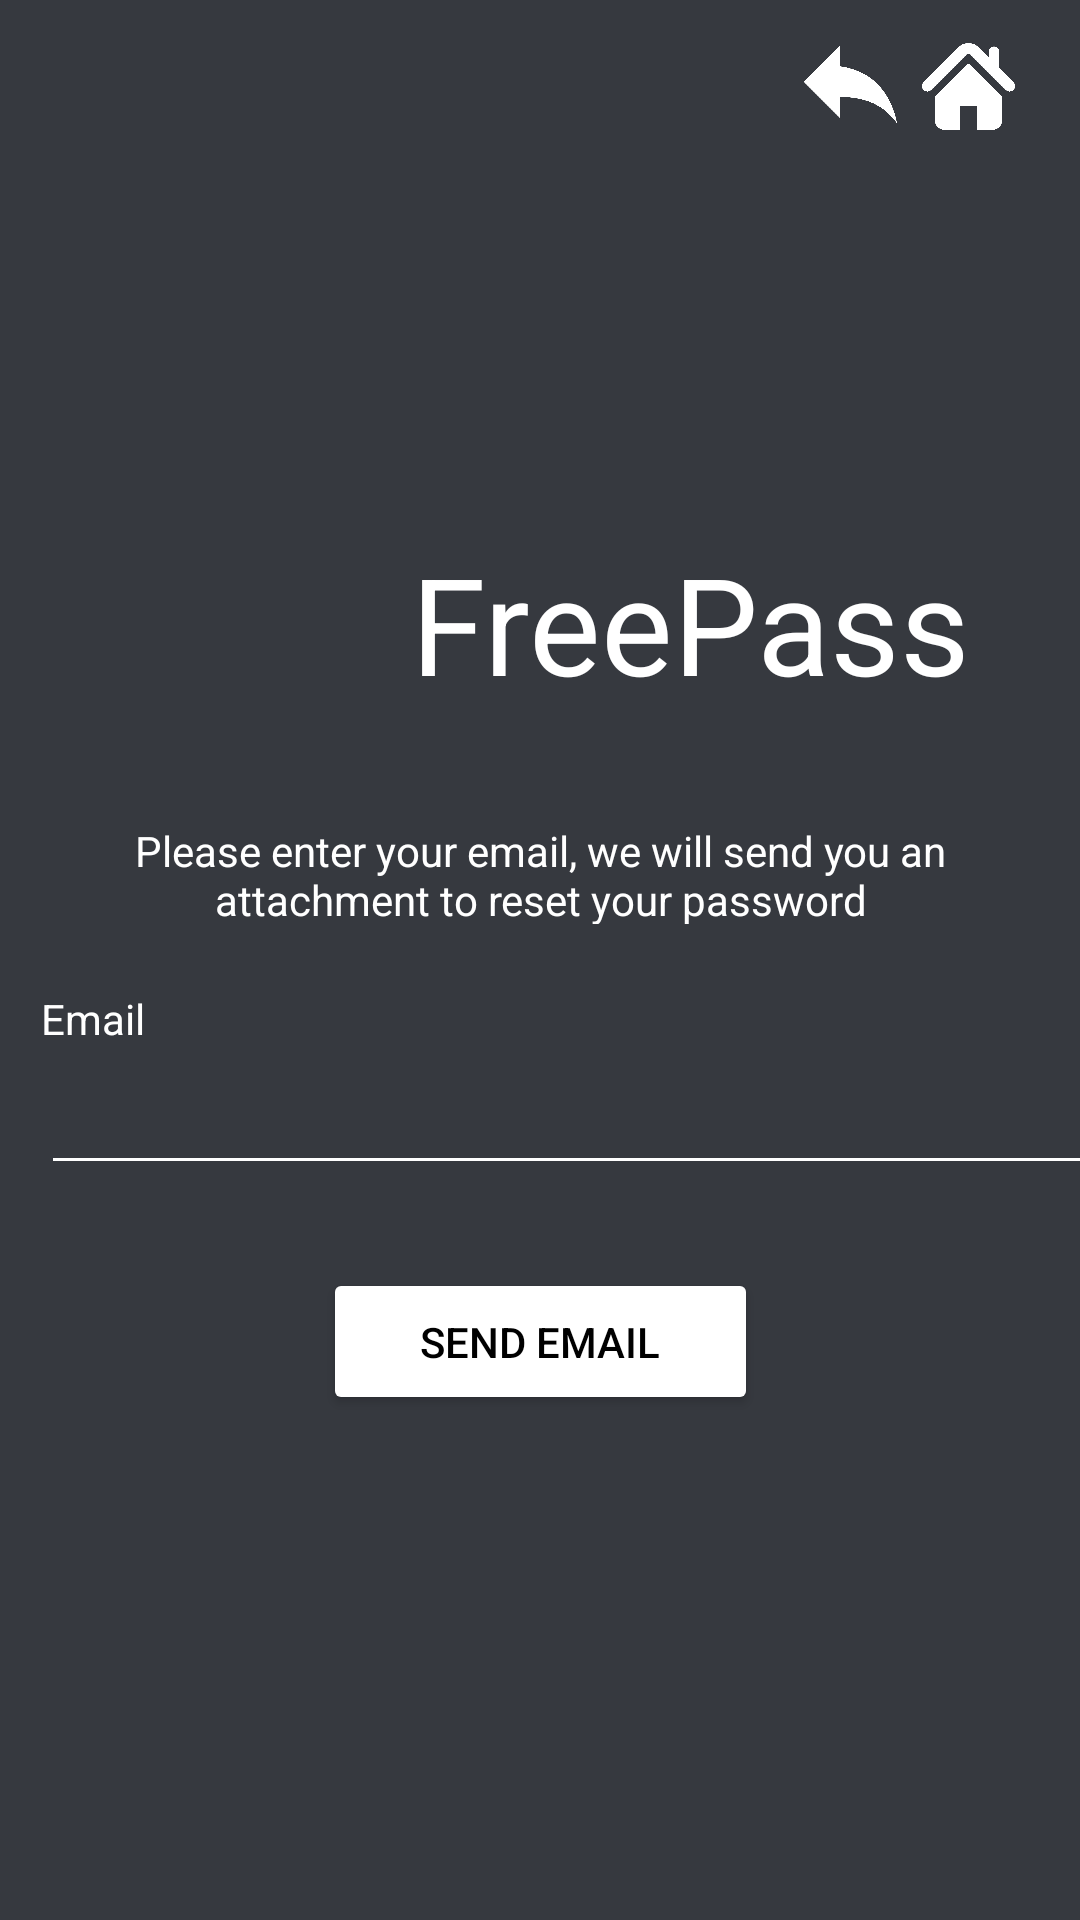

Icon click points for this 1080 x 1920 phone screenshot, format point (x, y):
back arrow: point (850, 84)
home: point (968, 86)
